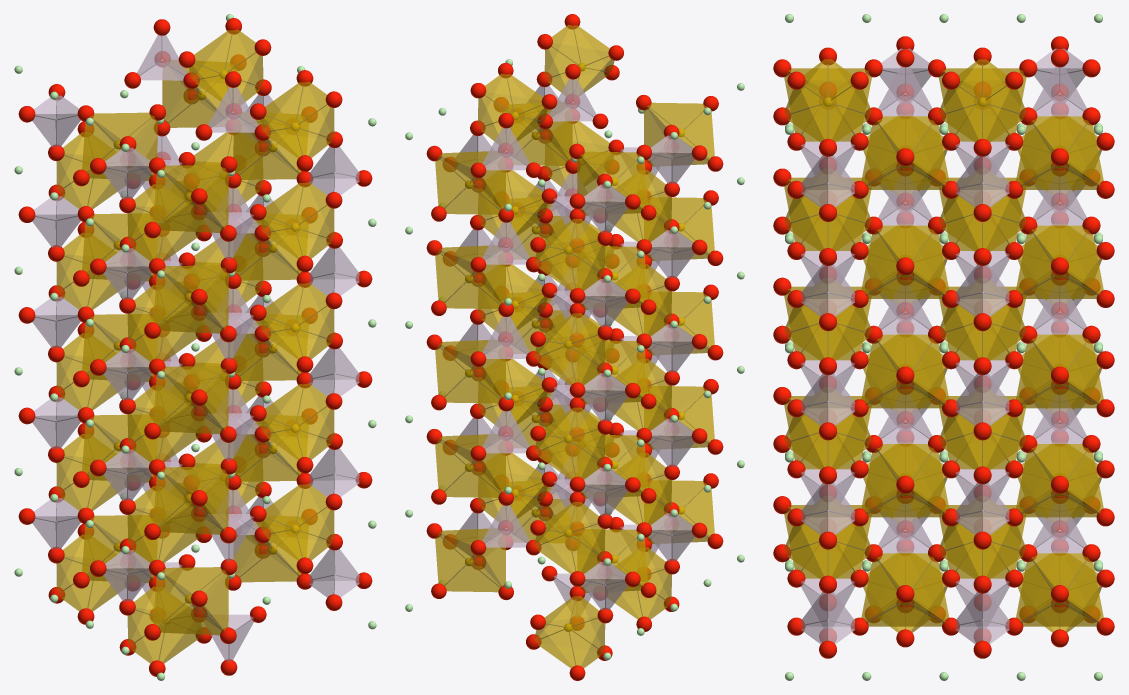
Rendered from LiFePO4.fbx.
3 renders of one model, left to right at view 1: azimuth 30°, elevation 25°; view 2: azimuth 150°, elevation 25°; view 3: azimuth 270°, elevation 25°, orthographic. The views are drawn at different scales.
Visible parts, largest first — view 1: Shape_IndexedFaceSet.026, Shape_IndexedFaceSet.034, Shape_IndexedFaceSet.002, Shape_IndexedFaceSet.010, Shape_IndexedFaceSet.018, Shape_IndexedFaceSet.004, Shape_IndexedFaceSet.036, Shape_IndexedFaceSet.012, Shape_IndexedFaceSet.028, Shape_IndexedFaceSet.020, Shape_IndexedFaceSet.074, Shape_IndexedFaceSet.173 (+201 smaller); view 2: Shape_IndexedFaceSet.154, Shape_IndexedFaceSet.130, Shape_IndexedFaceSet.122, Shape_IndexedFaceSet.146, Shape_IndexedFaceSet.138, Shape_IndexedFaceSet.126, Shape_IndexedFaceSet.142, Shape_IndexedFaceSet.150, Shape_IndexedFaceSet.134, Shape_IndexedFaceSet.158, Shape_IndexedFaceSet.033, Shape_IndexedFaceSet.073 (+161 smaller); view 3: Shape_IndexedFaceSet.078, Shape_IndexedFaceSet.038, Shape_IndexedFaceSet.075, Shape_IndexedFaceSet.035, Shape_IndexedFaceSet.336, Shape_IndexedFaceSet.356, Shape_IndexedFaceSet.320, Shape_IndexedFaceSet.340, Shape_IndexedFaceSet.332, Shape_IndexedFaceSet.352, Shape_IndexedFaceSet.328, Shape_IndexedFaceSet.348 (+190 smaller).
Boxes of the visible parts, left/top/right/bottom form: Shape_IndexedFaceSet.026: left=264, top=201, right=330, bottom=257; Shape_IndexedFaceSet.034: left=264, top=101, right=330, bottom=156; Shape_IndexedFaceSet.002: left=264, top=503, right=330, bottom=559; Shape_IndexedFaceSet.010: left=264, top=403, right=330, bottom=458; Shape_IndexedFaceSet.018: left=264, top=302, right=330, bottom=357; Shape_IndexedFaceSet.004: left=268, top=488, right=330, bottom=540; Shape_IndexedFaceSet.036: left=268, top=86, right=330, bottom=138; Shape_IndexedFaceSet.012: left=268, top=387, right=330, bottom=440; Shape_IndexedFaceSet.028: left=268, top=186, right=330, bottom=238; Shape_IndexedFaceSet.020: left=268, top=287, right=330, bottom=339; Shape_IndexedFaceSet.074: left=193, top=49, right=258, bottom=98; Shape_IndexedFaceSet.173: left=237, top=441, right=299, bottom=481; Shape_IndexedFaceSet.154: left=543, top=239, right=601, bottom=289; Shape_IndexedFaceSet.130: left=543, top=522, right=601, bottom=572; Shape_IndexedFaceSet.122: left=543, top=616, right=601, bottom=666; Shape_IndexedFaceSet.146: left=543, top=333, right=601, bottom=383; Shape_IndexedFaceSet.138: left=543, top=427, right=601, bottom=477; Shape_IndexedFaceSet.126: left=539, top=600, right=600, bottom=651; Shape_IndexedFaceSet.142: left=539, top=411, right=600, bottom=462; Shape_IndexedFaceSet.150: left=539, top=317, right=600, bottom=368; Shape_IndexedFaceSet.134: left=539, top=505, right=600, bottom=556; Shape_IndexedFaceSet.158: left=539, top=222, right=600, bottom=273; Shape_IndexedFaceSet.033: left=549, top=43, right=610, bottom=89; Shape_IndexedFaceSet.073: left=482, top=92, right=543, bottom=138; Shape_IndexedFaceSet.078: left=943, top=64, right=1021, bottom=115; Shape_IndexedFaceSet.038: left=788, top=64, right=867, bottom=115; Shape_IndexedFaceSet.075: left=955, top=80, right=1009, bottom=139; Shape_IndexedFaceSet.035: left=800, top=80, right=855, bottom=139; Shape_IndexedFaceSet.336: left=878, top=66, right=932, bottom=116; Shape_IndexedFaceSet.356: left=1033, top=66, right=1086, bottom=116; Shape_IndexedFaceSet.320: left=878, top=517, right=932, bottom=553; Shape_IndexedFaceSet.340: left=1033, top=517, right=1086, bottom=553; Shape_IndexedFaceSet.332: left=878, top=190, right=932, bottom=225; Shape_IndexedFaceSet.352: left=1033, top=190, right=1086, bottom=225; Shape_IndexedFaceSet.328: left=878, top=299, right=932, bottom=334; Shape_IndexedFaceSet.348: left=1033, top=299, right=1086, bottom=334.
Bounding box in the file's own units: 1184 × 2664 × 1319.
